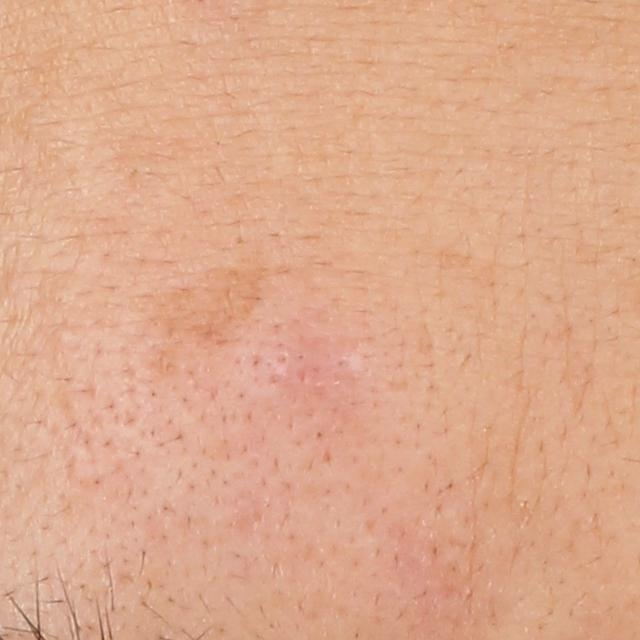comedo: (54, 323, 78, 349)
